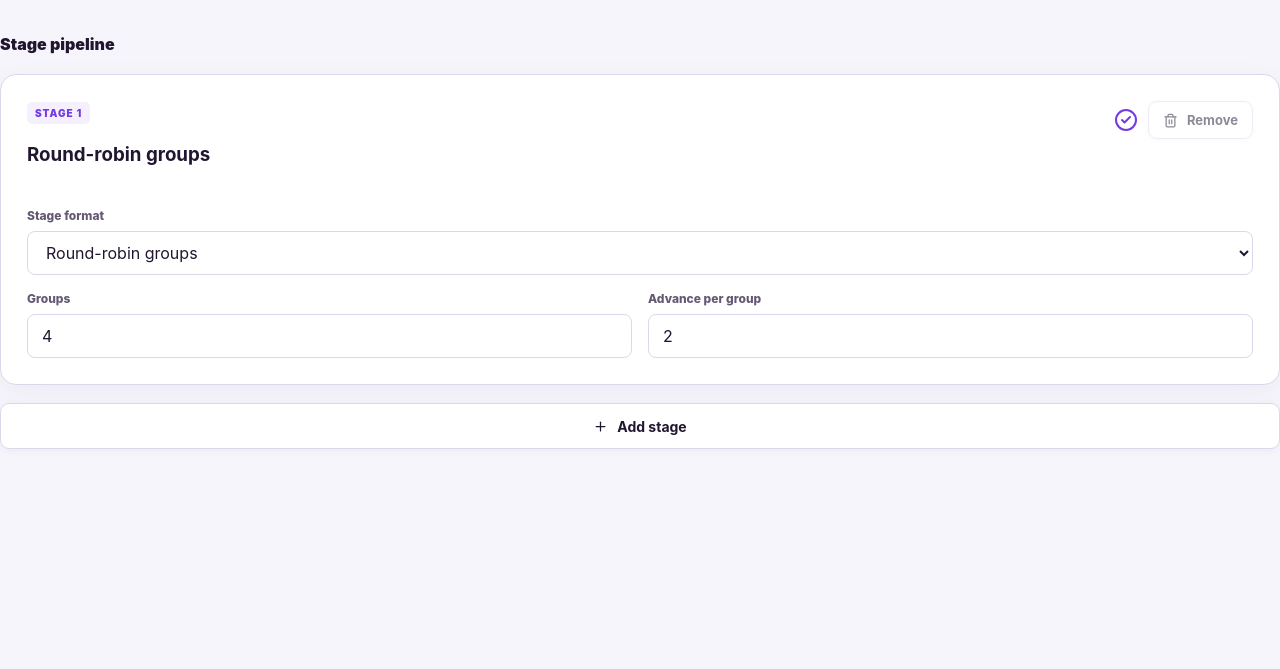
TournamentStagePipeline › allows every stage to use any supported format
The image size is (1280, 669).
Select "Single-elimination playoffs" in the dropdown named "Format for stage 1" at [640, 253], box top-left (27, 231), bottom-right (1253, 275)
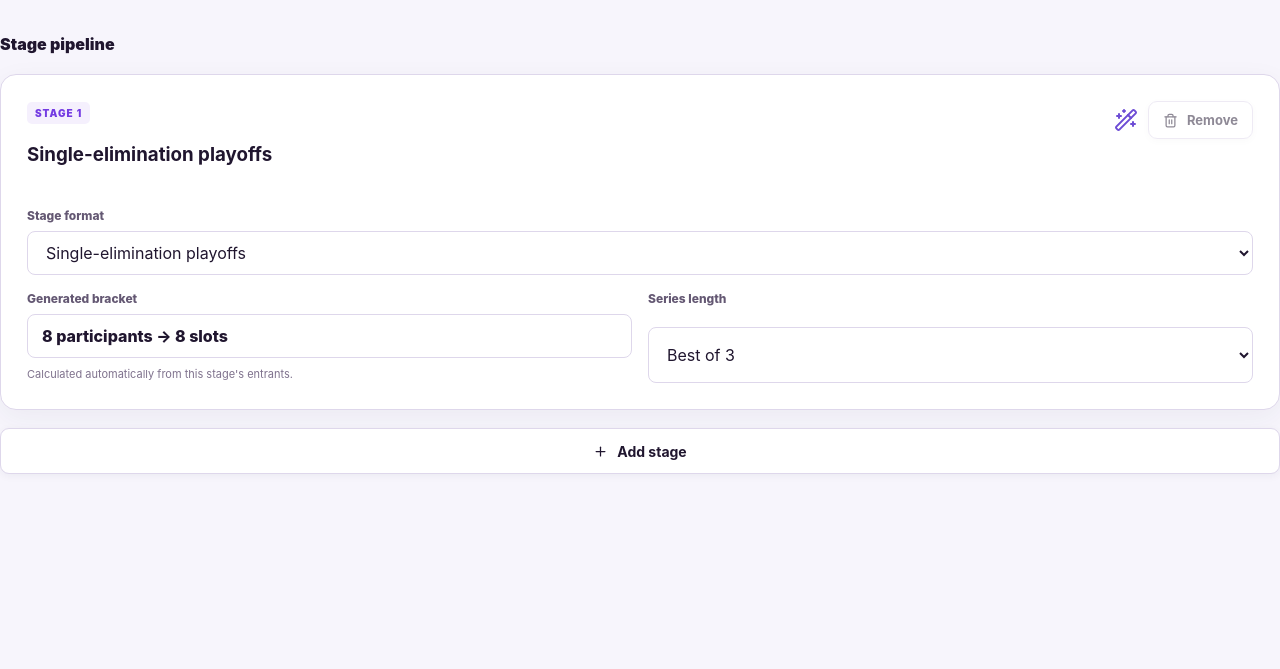
Expected: the heading "Single-elimination playoffs" is shown, top-left (27, 143), bottom-right (272, 166)
Expected: the text "8 participants → 8 slots" is shown, top-left (27, 314), bottom-right (632, 358)
Expected: the text "Series length" is shown, top-left (648, 291), bottom-right (726, 306)
Click the button "Add stage" at [640, 452], box top-left (0, 428), bottom-right (1279, 474)
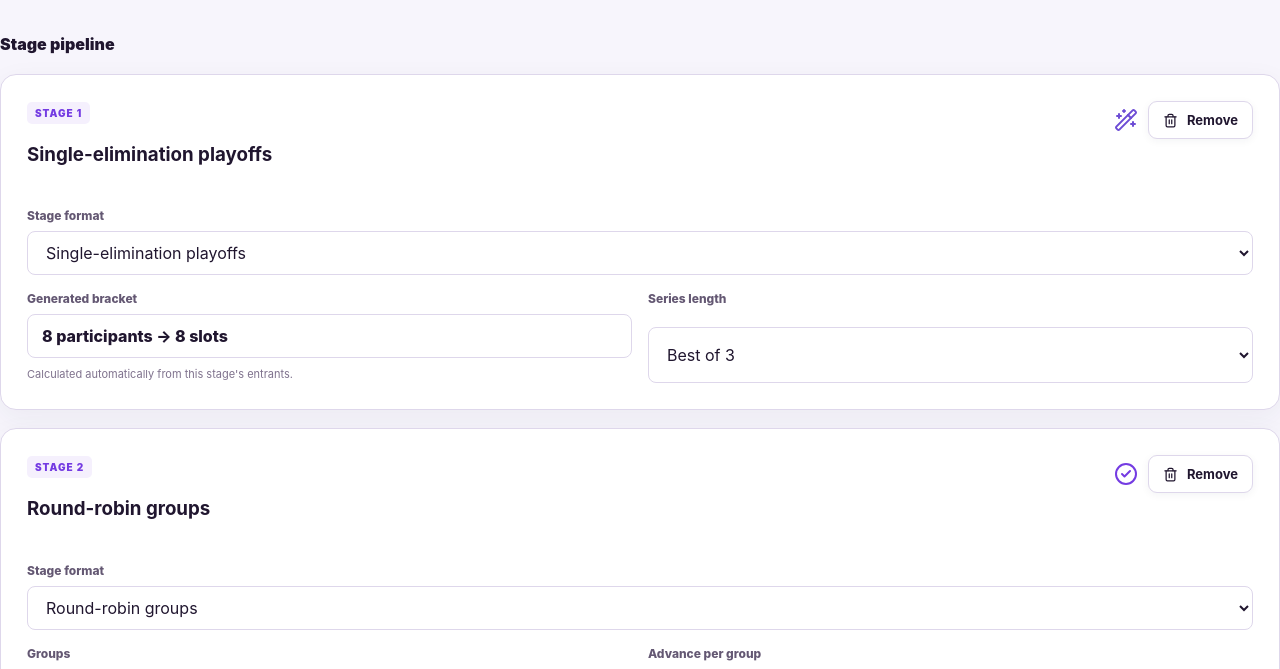
Expected: the dropdown named "Format for stage 2" shows "Round-robin groups"
Select "Double-elimination playoffs" in the dropdown named "Format for stage 2" at [640, 608], box top-left (27, 586), bottom-right (1253, 630)
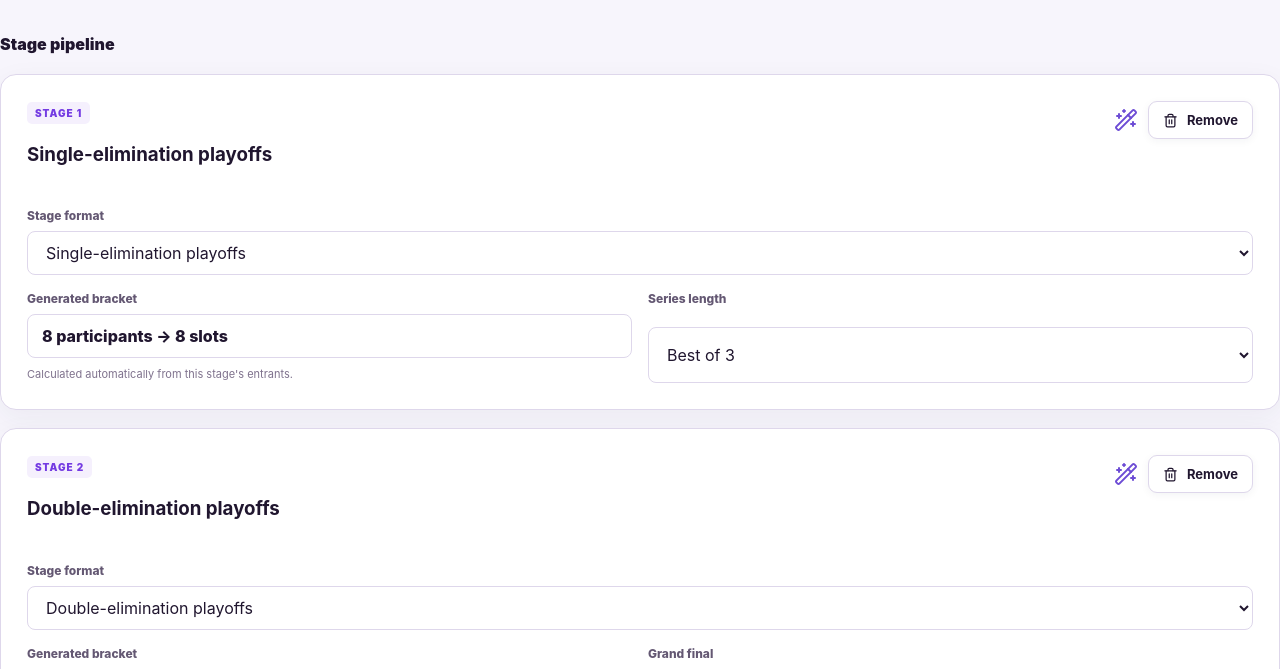
Expected: the heading "Double-elimination playoffs" is shown, top-left (27, 497), bottom-right (280, 520)
Expected: the text "Grand final" is shown, top-left (648, 646), bottom-right (713, 661)
